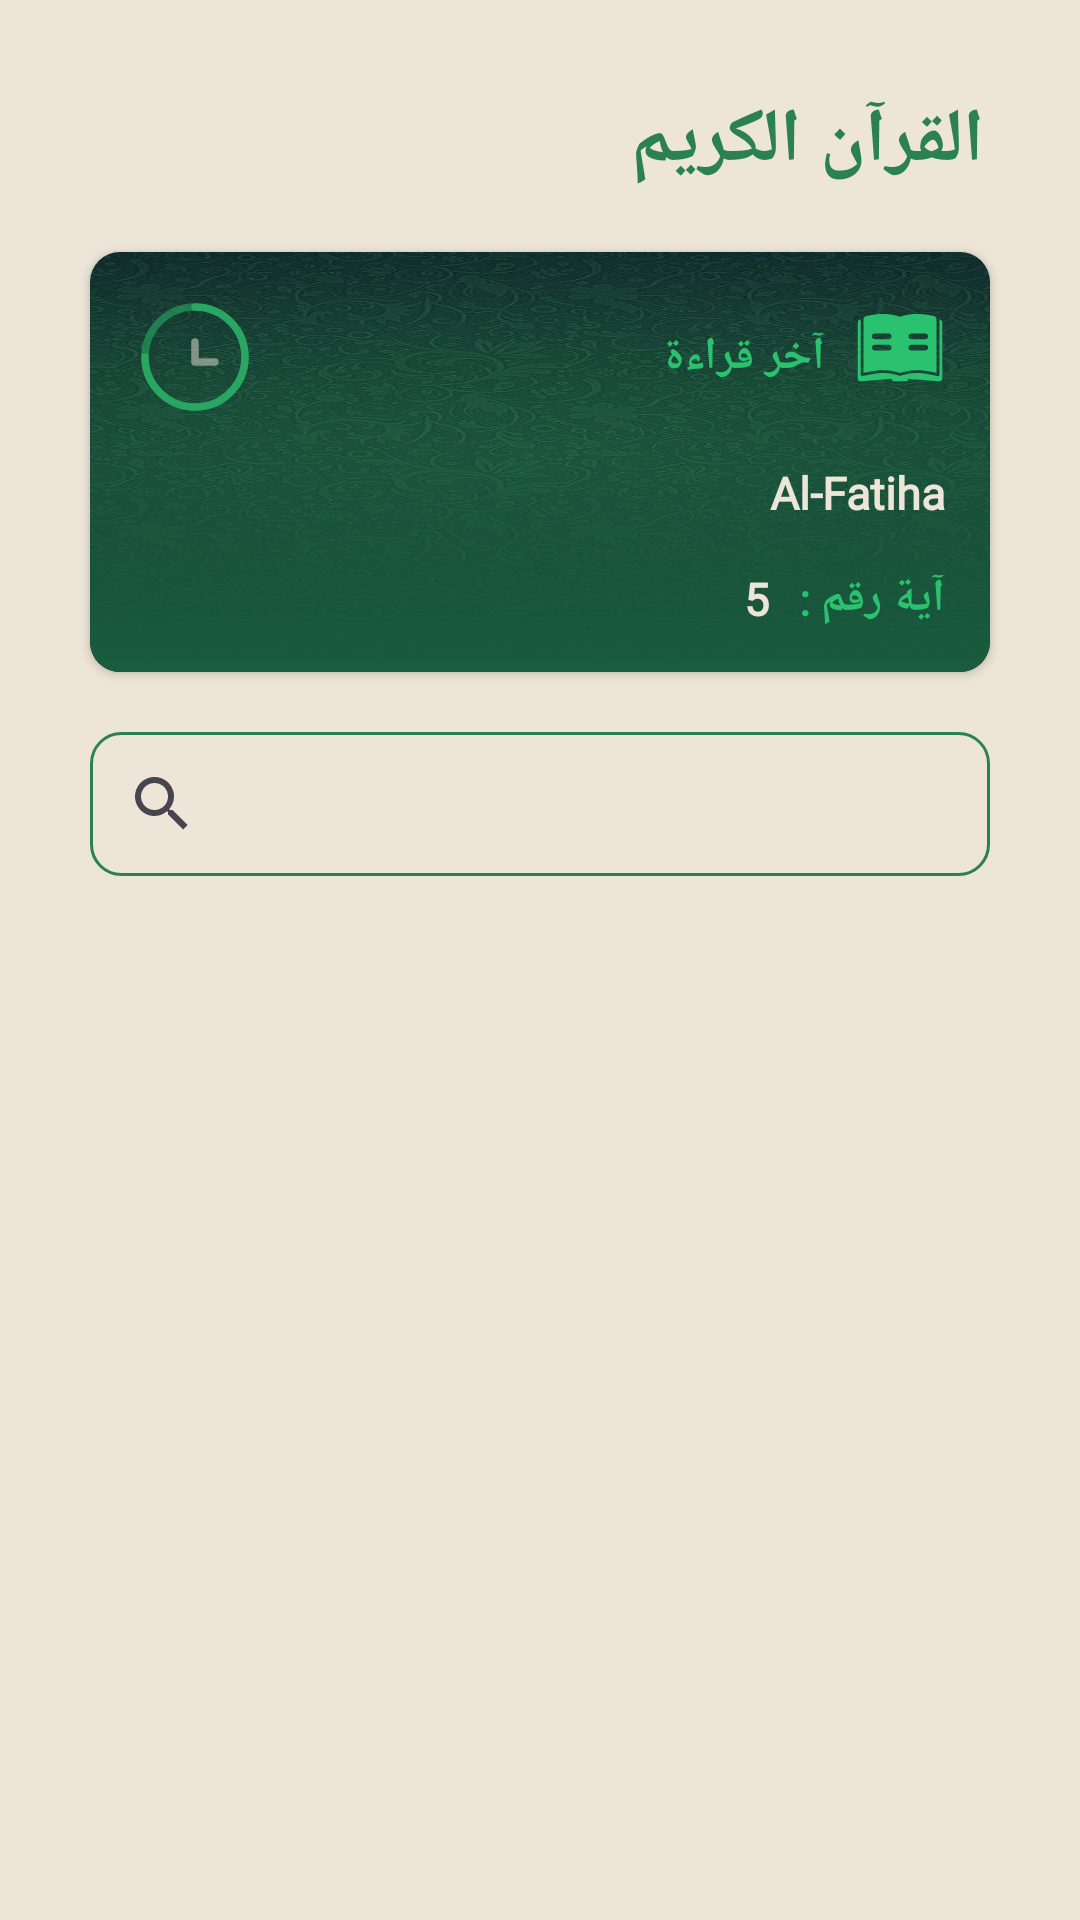

Screen size 1080 x 1920. Icon name, then its box in pixels as [x1=x1, y1=y1, x2=x2, y2=y2]:
history: [x1=135, y1=297, x2=255, y2=411]
read: [x1=857, y1=314, x2=943, y2=387]
